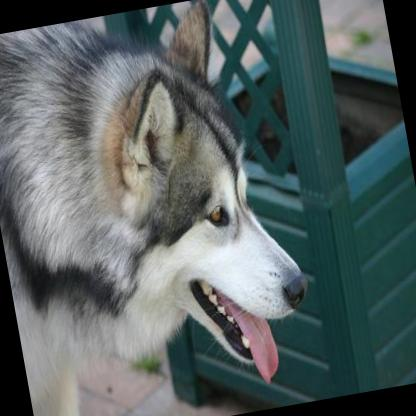malamute: (0, 0, 324, 416)
